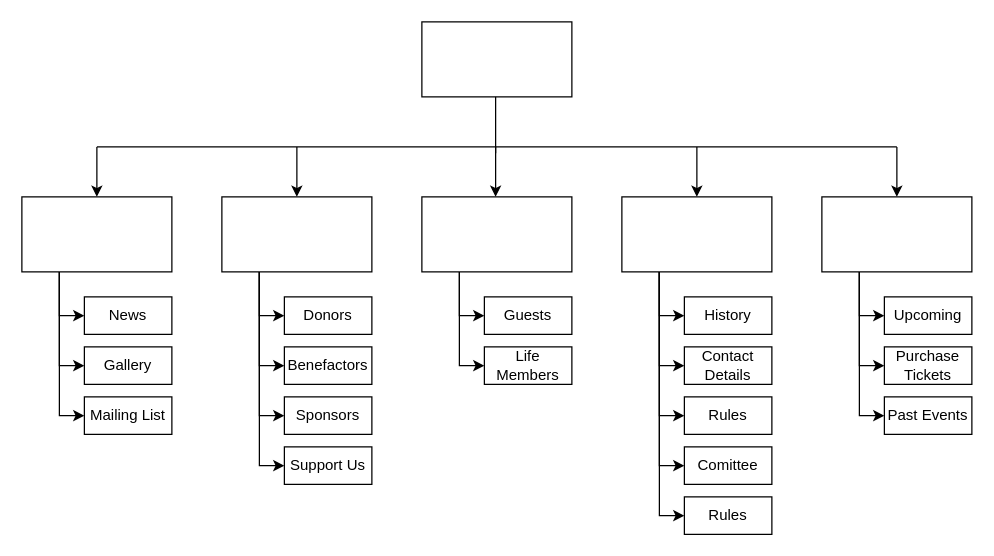
Some shapes in this 994 by 556 pixel diagram are drawn without their labels. Here are the shapes that lost their labels. From the top down, the centre of each, then its label:
At pixel 496 59: "Home".
At pixel 96 234: "Media".
At pixel 296 234: "Supporters".
At pixel 496 234: "People".
At pixel 696 234: "About Us".
At pixel 896 234: "Events".
